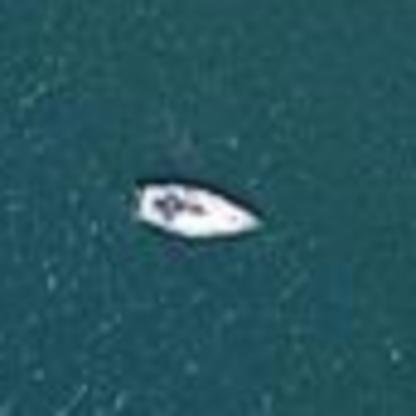ship: (101, 163, 275, 257)
